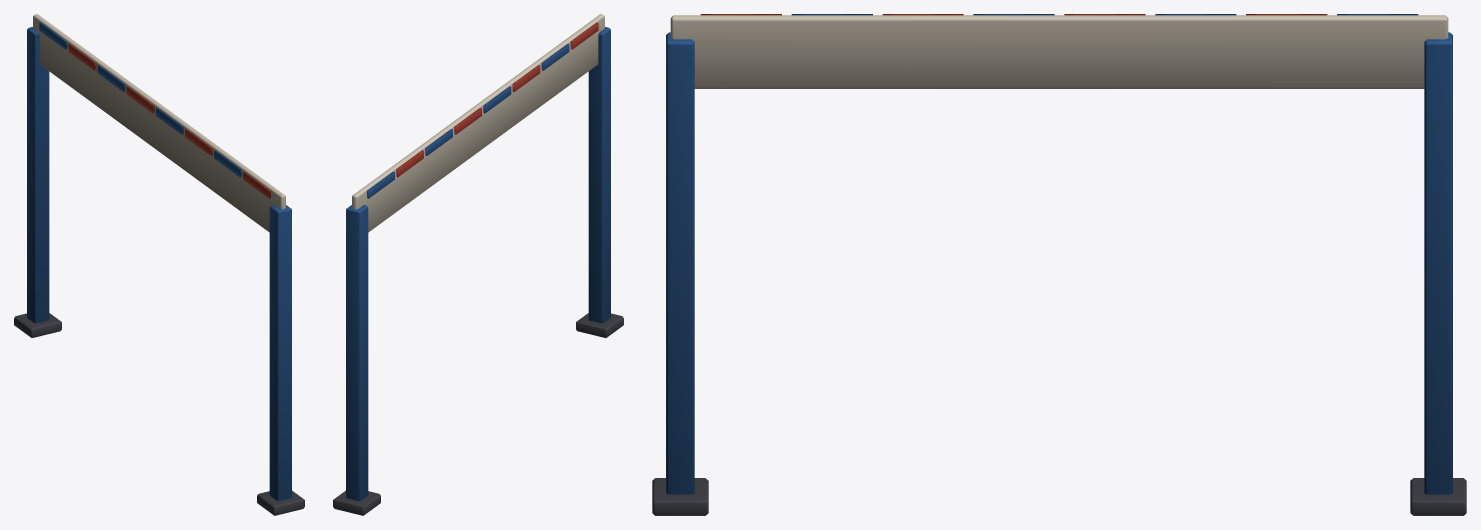
Rendered from speedway_speedway_jump_banner.glb.
3 views of the same model, side by side, from view 1: azimuth 30°, elevation 25°; view 2: azimuth 150°, elevation 25°; view 3: azimuth 270°, elevation 25° (orthographic). The views are drawn at different scales.
Visible parts, largest first — view 1: Jump zone support; view 2: Jump zone support; view 3: Jump zone support.
Boxes of the visible parts, x1=… form: Jump zone support: x1=14, y1=14, x2=304, y2=515; Jump zone support: x1=333, y1=14, x2=623, y2=515; Jump zone support: x1=652, y1=14, x2=1466, y2=515.
Size of the model in its own units: 0.48 by 4.51 by 6.81.
